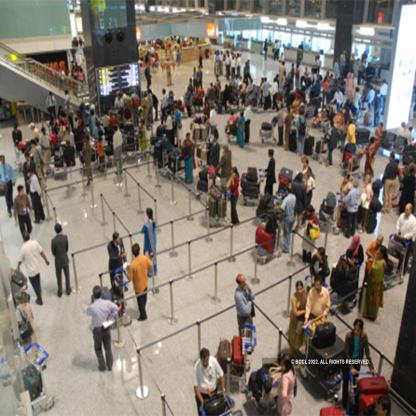airport-trolley: (0, 340, 56, 411), (216, 324, 260, 389), (375, 233, 413, 288), (346, 366, 384, 416), (103, 269, 133, 331), (250, 212, 284, 265), (312, 187, 343, 236), (199, 191, 233, 233), (238, 167, 265, 207), (196, 394, 236, 416)
